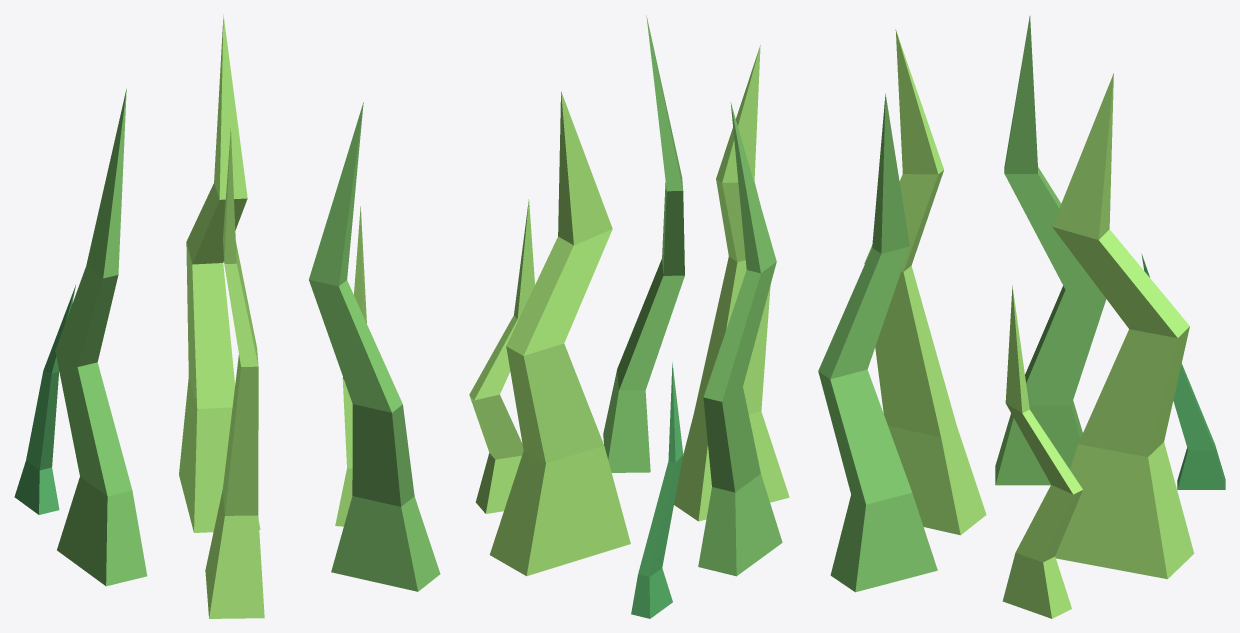
File: Grass_5.fbx
The picture shows the model from 3 angles, left to right: view 1: azimuth 30°, elevation 25°; view 2: azimuth 150°, elevation 25°; view 3: azimuth 270°, elevation 25°; orthographic projection. The views are drawn at different scales.
Parts seen in each view (by area): view 1: Grass_5; view 2: Grass_5; view 3: Grass_5.
Part boxes in pixels (box(x1,y1,x2,y2)): Grass_5: box(14, 14, 440, 618); Grass_5: box(469, 15, 789, 618); Grass_5: box(818, 16, 1225, 618).
Size of the model in its own units: 50.55 by 79.47 by 60.26.
